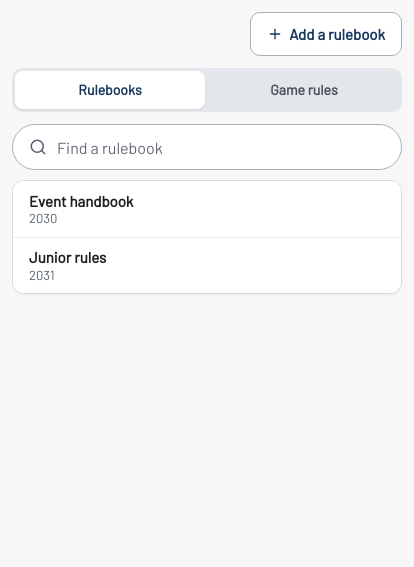
RulebooksPage › loads a rulebook only when it is chosen, and reuses it afterwards
Click the button "Event handbook 2030" at (81, 200), box [13, 181, 401, 237]
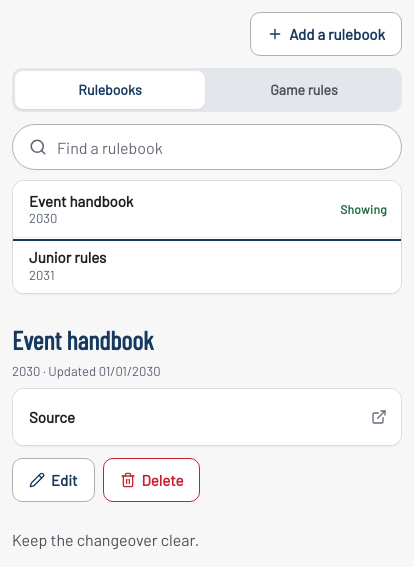
Now the text "Keep the changeover clear." is shown, box [12, 530, 199, 549]
Now the text "Showing" is shown, box [340, 203, 387, 215]
Click the button "Junior rules 2031" at (68, 257), box [13, 237, 401, 293]
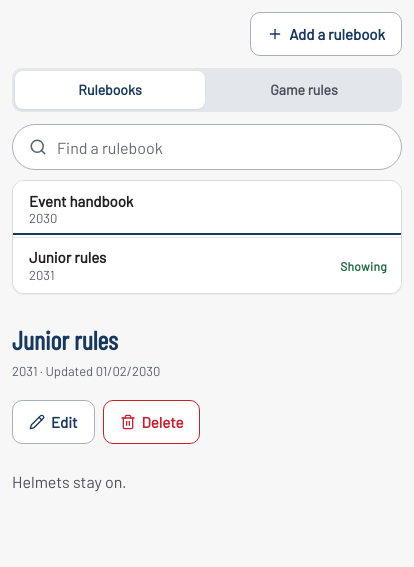
Now the text "Helmets stay on." is shown, box [12, 472, 126, 491]
Now the link "Source" is gone
Click the button "Event handbook 2030" at (81, 200), box [13, 181, 401, 237]
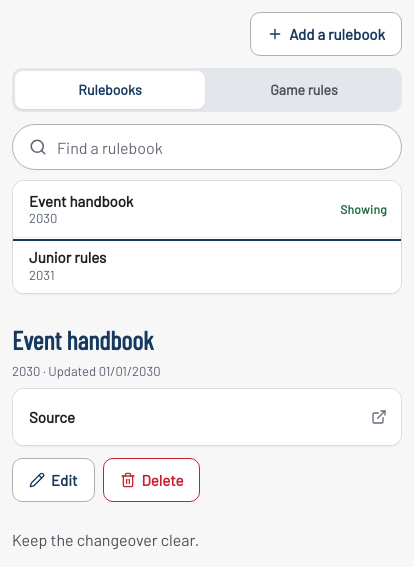
Now the text "Keep the changeover clear." is shown, box [12, 530, 199, 549]
